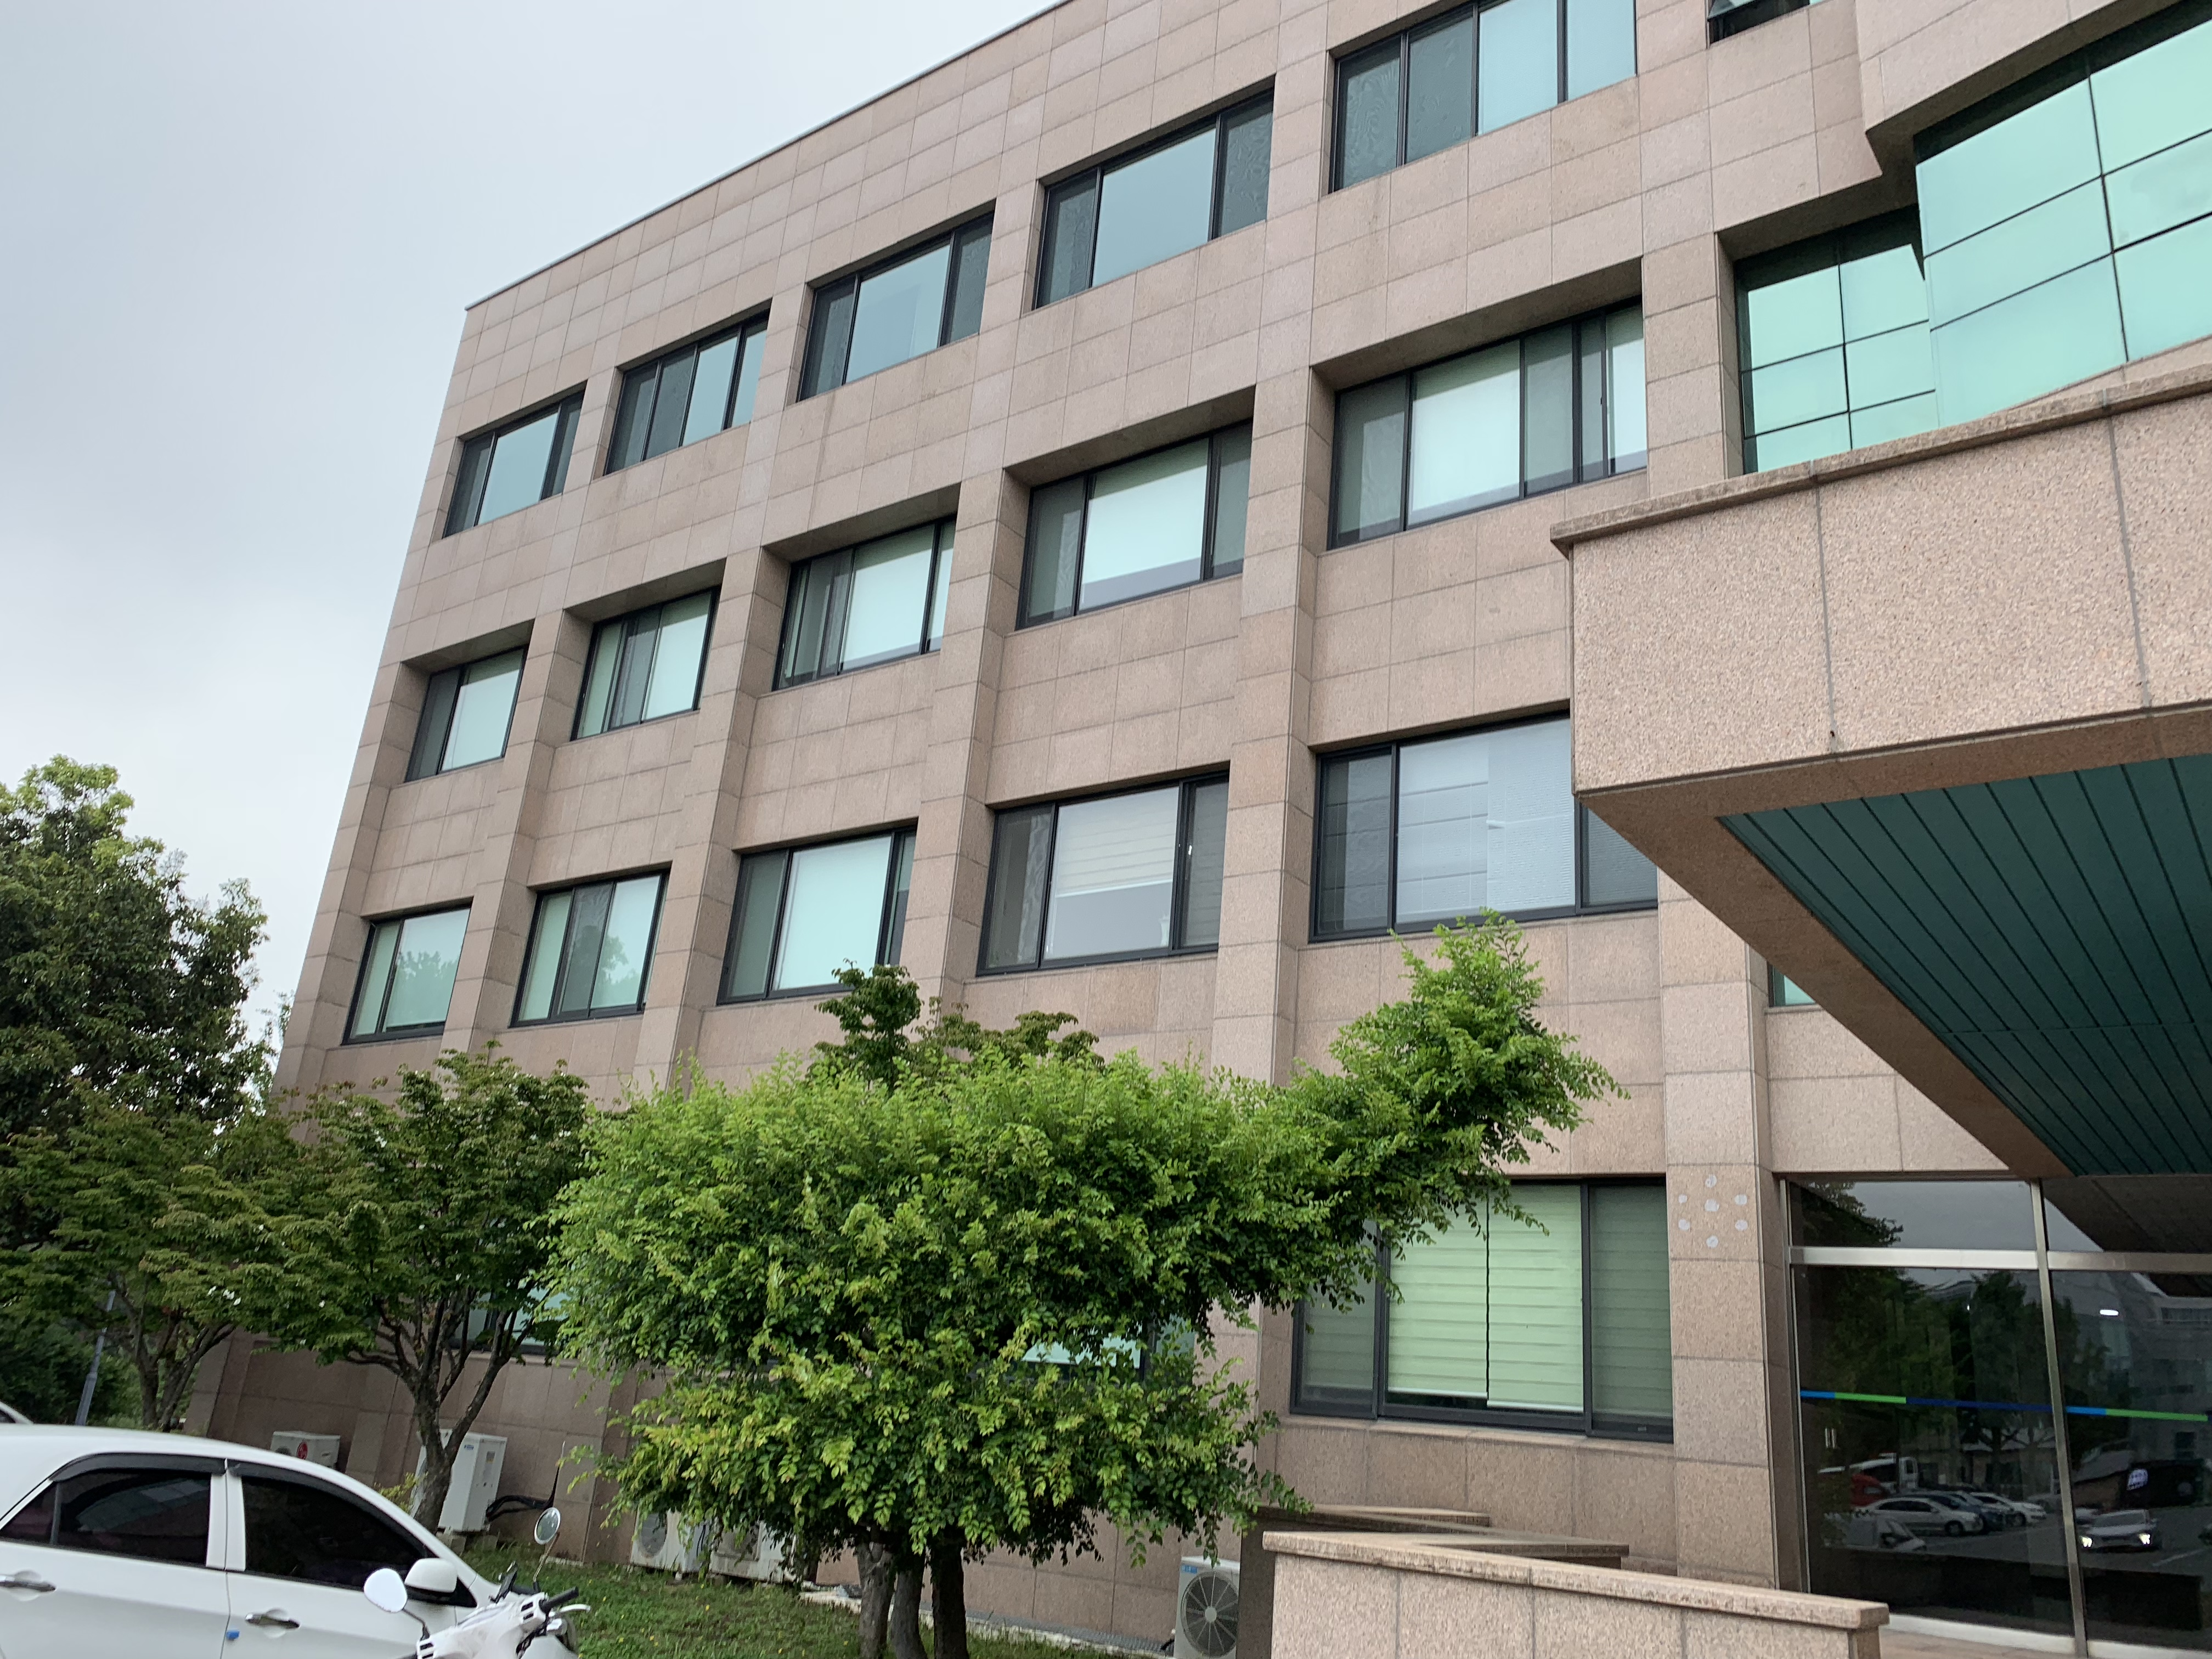Joint Experimental Labs: (514, 26, 2134, 1649)
